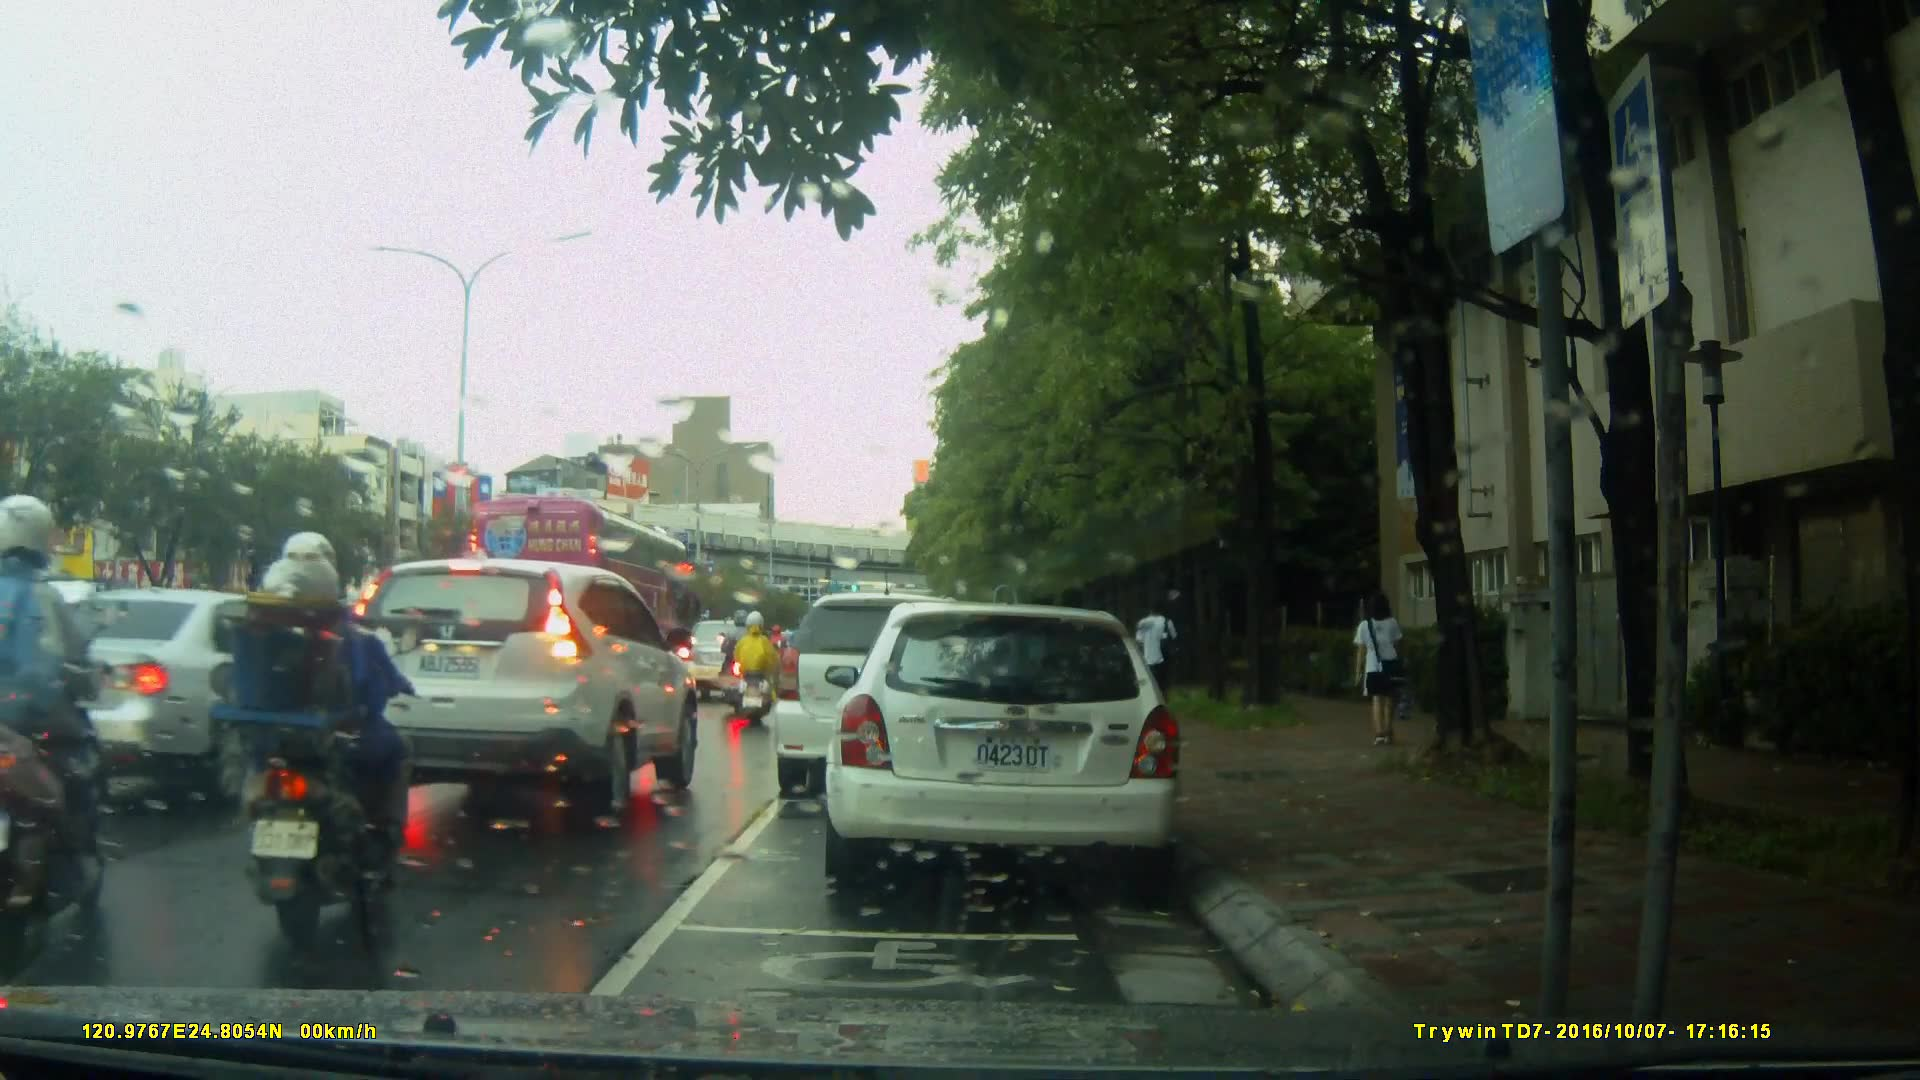pedestrian: (1345, 582, 1421, 765), (1131, 595, 1178, 711)
rider: (202, 525, 419, 957), (1, 499, 130, 981), (734, 611, 778, 726), (723, 604, 767, 714)
vehicle: (835, 594, 1194, 898), (342, 557, 706, 820), (71, 581, 392, 790), (776, 590, 1026, 784), (464, 495, 715, 662), (677, 618, 776, 704)
